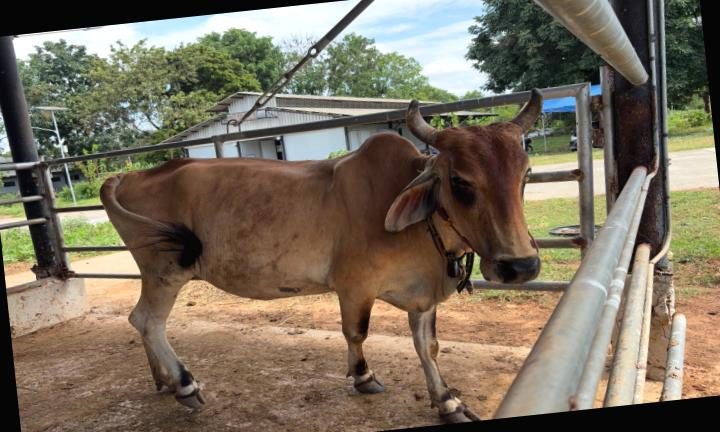Brahman: (100, 89, 541, 424)
